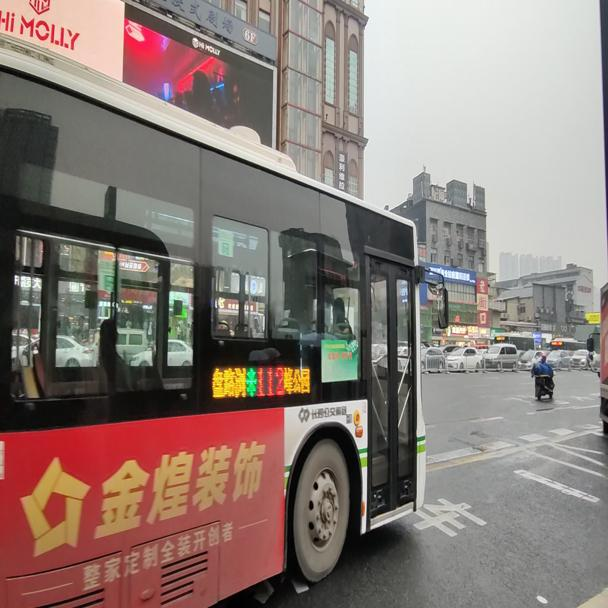bus: (0, 29, 449, 604)
screen: (257, 365, 284, 398)
